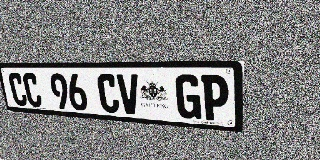6: (65, 73, 89, 111)
9: (49, 73, 71, 110)
C: (96, 74, 120, 113), (22, 73, 43, 108), (7, 73, 28, 106)
G: (175, 74, 201, 120)
P: (201, 75, 229, 122)
V: (116, 74, 141, 115)
